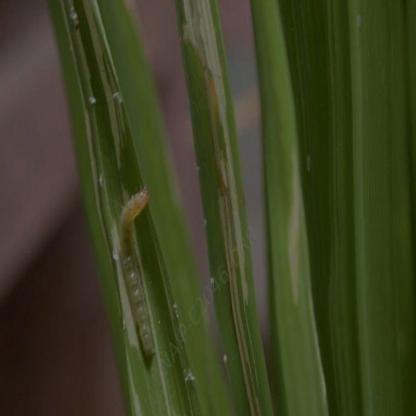leaf-folder: (113, 177, 166, 363)
